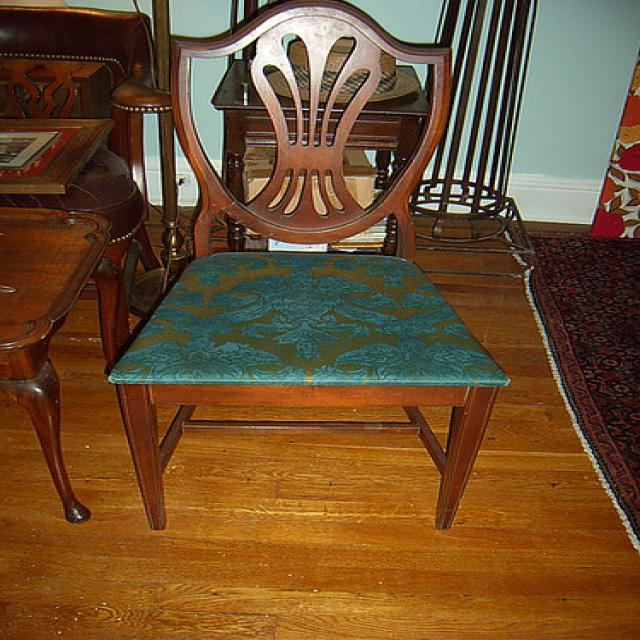chair: (104, 0, 514, 534)
